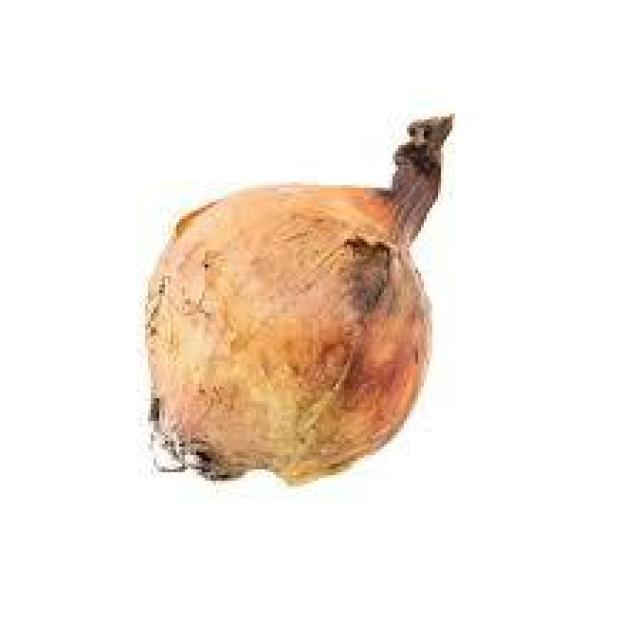mould: (348, 235, 400, 330), (328, 342, 373, 421)
rotten: (393, 117, 452, 239)
